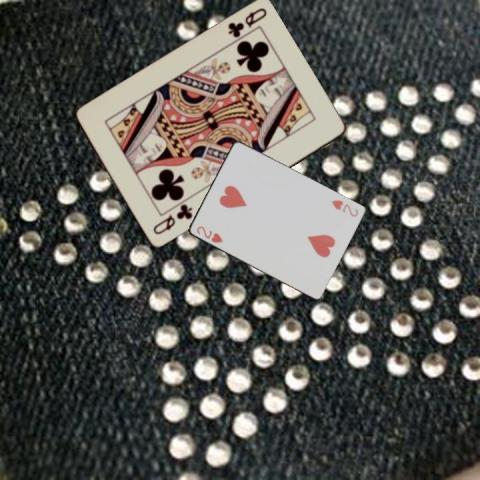2h: (193, 222, 224, 244), (328, 197, 359, 218)
Qc: (149, 202, 194, 237), (224, 5, 268, 40)
